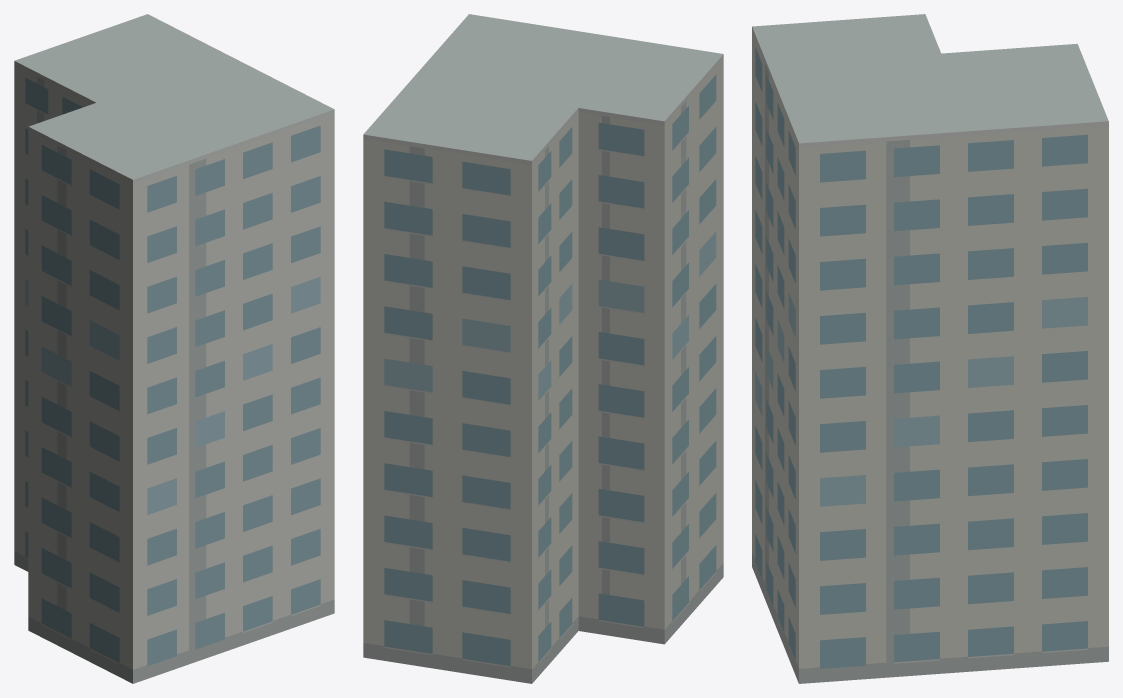
Rendered from residential-ec636a01-6cb0-41b2-a4cd-6988782ca501.glb.
3 renders of one model, left to right at view 1: azimuth 30°, elevation 25°; view 2: azimuth 150°, elevation 25°; view 3: azimuth 270°, elevation 25°, orthographic. The views are drawn at different scales.
Parts seen in each view (by area): view 1: residential-ec636a01-6cb0-41b2-a4cd-6988782ca501.tmp; view 2: residential-ec636a01-6cb0-41b2-a4cd-6988782ca501.tmp; view 3: residential-ec636a01-6cb0-41b2-a4cd-6988782ca501.tmp.
Part boxes in pixels (left/top/right/bottom): residential-ec636a01-6cb0-41b2-a4cd-6988782ca501.tmp: left=14, top=14, right=334, bottom=683; residential-ec636a01-6cb0-41b2-a4cd-6988782ca501.tmp: left=363, top=14, right=723, bottom=683; residential-ec636a01-6cb0-41b2-a4cd-6988782ca501.tmp: left=752, top=14, right=1108, bottom=683.
Bounding box in the file's own units: 15.42 × 30 × 17.96.
